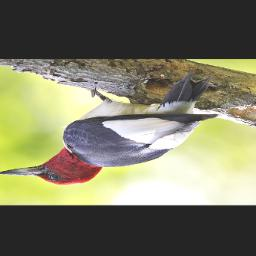Woodpecker: (0, 72, 218, 184)
